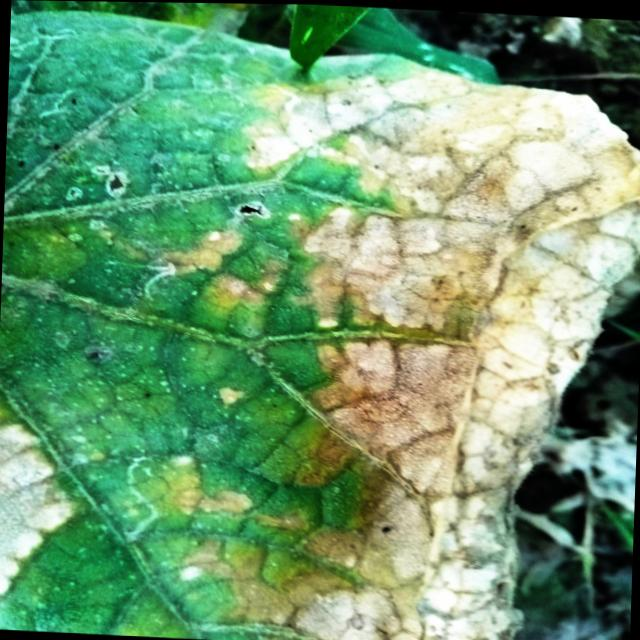Gummy-Stem-Blight: (223, 59, 640, 640)
